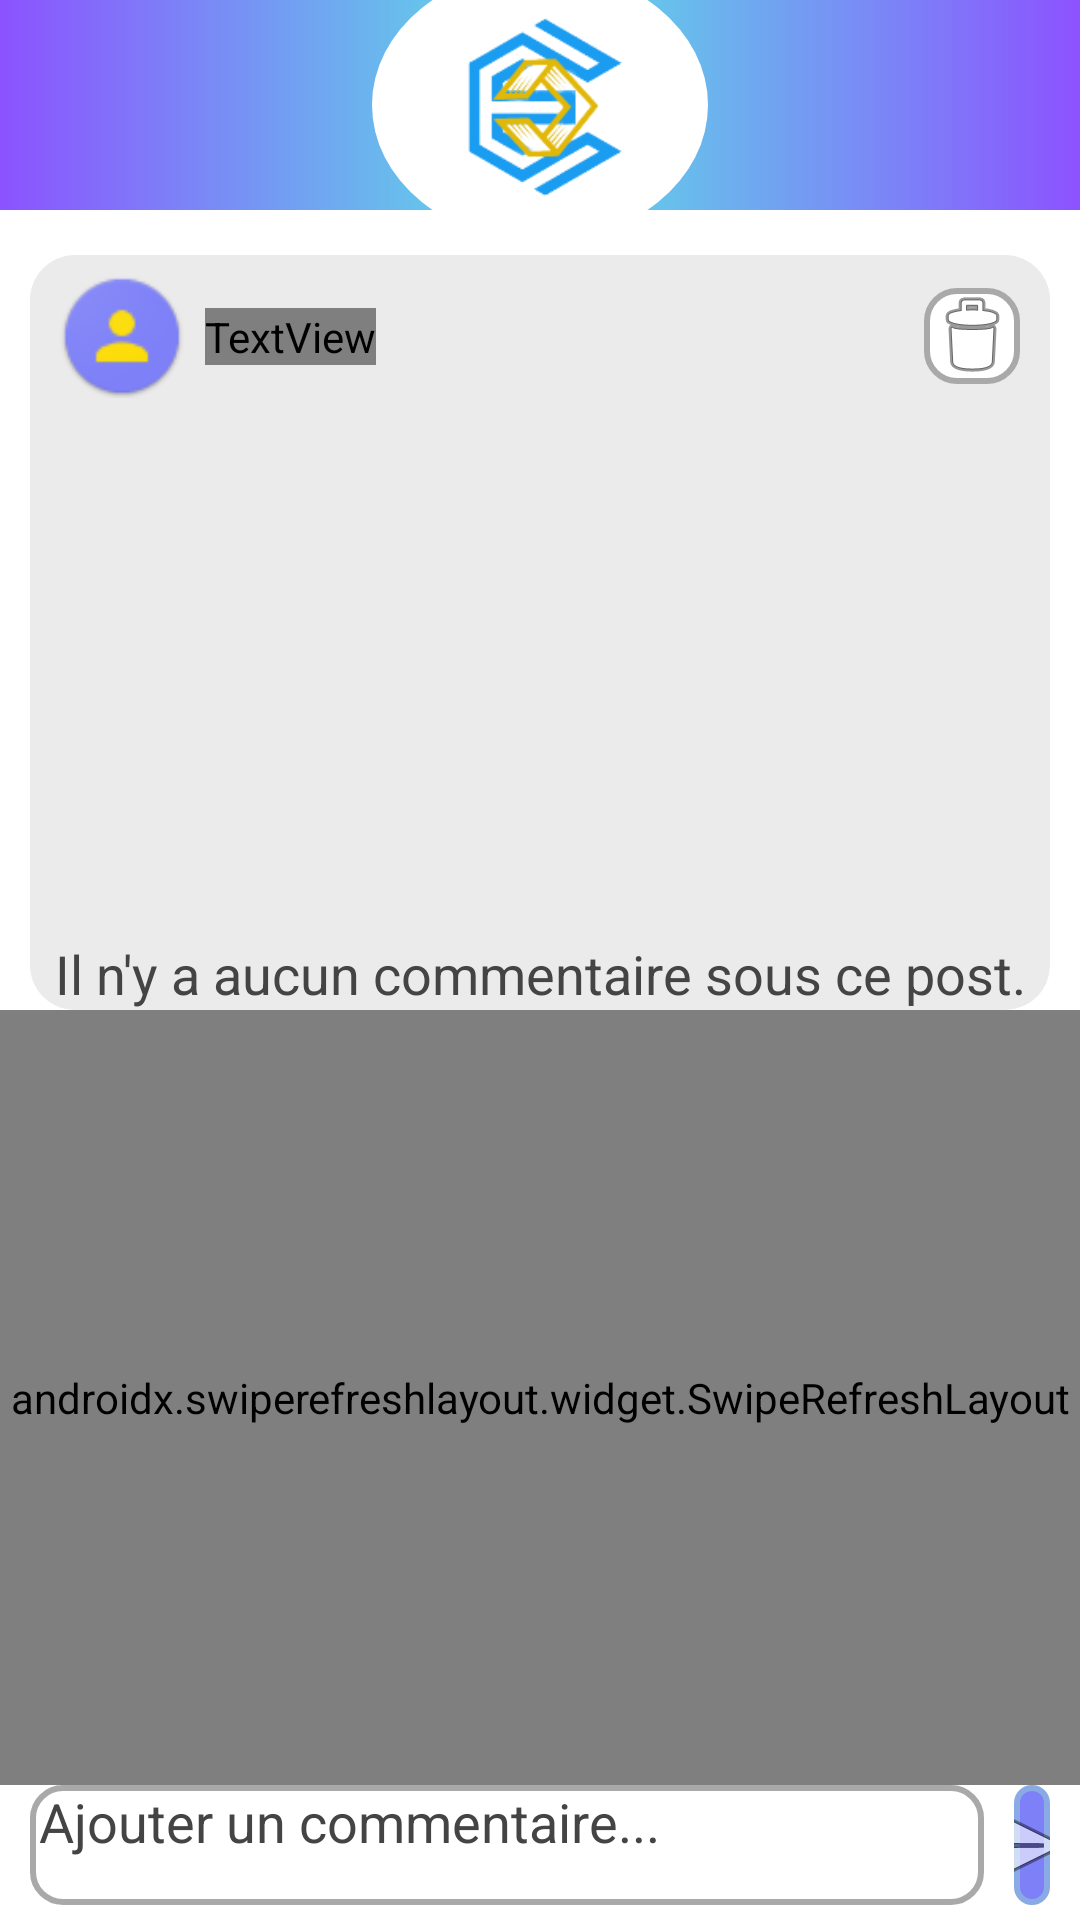

Where to tap for icons on this 1080×1920 app screen, as (x=x, y=y):
delete: (x=972, y=336)
send: (x=1032, y=1845)
